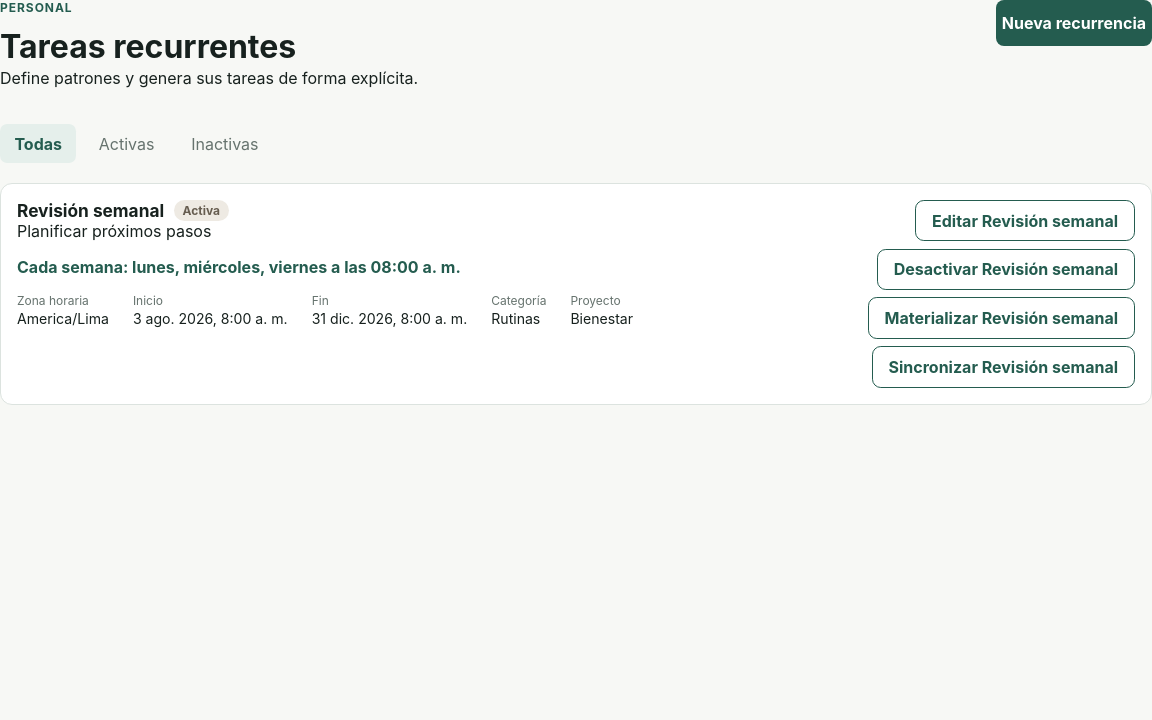
Test case: RecurringTasksPage › prefills editing, clears associations, and never synchronizes automatically
The width and height of the screenshot is (1152, 720).
Expected: the heading "Revisión semanal" is shown, [17,200,164,221]
Step 1. Click the button "Editar Revisión semanal" → (1025, 221), box [915,200,1135,241]
(page scrolled)
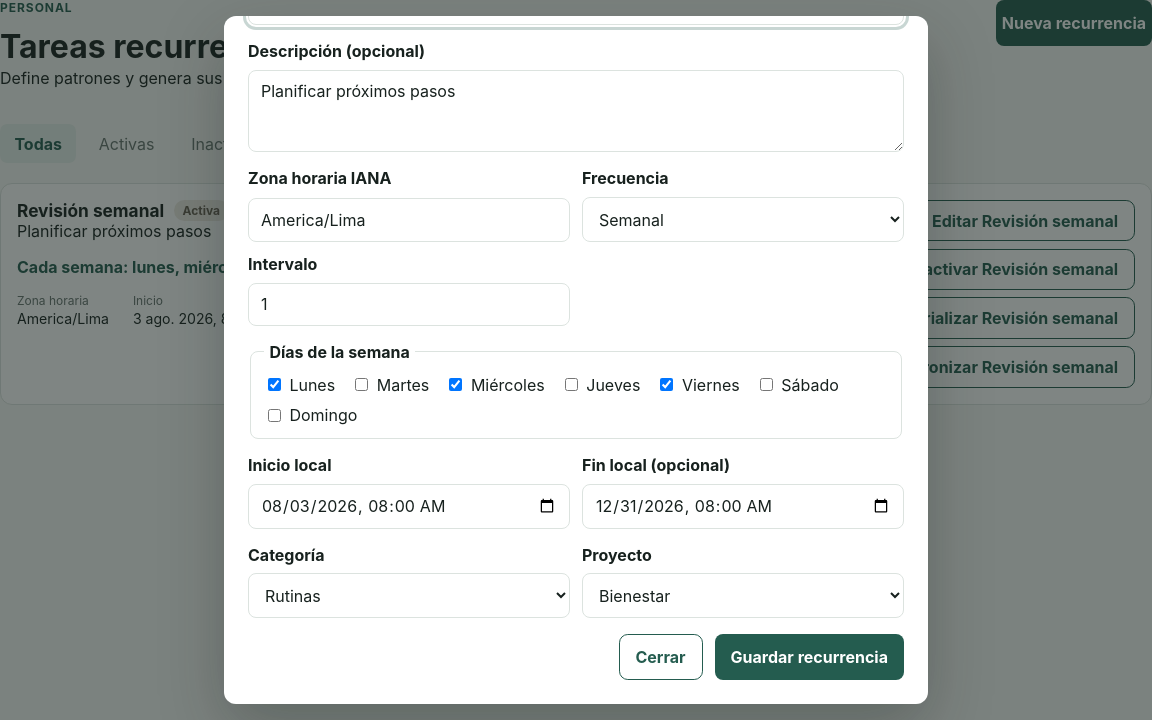
Now the dropdown labelled "Categoría" shows "Rutinas"
Step 2. Select "Sin categoría" in the dropdown labelled "Categoría" → (409, 596), box [248,573,570,618]
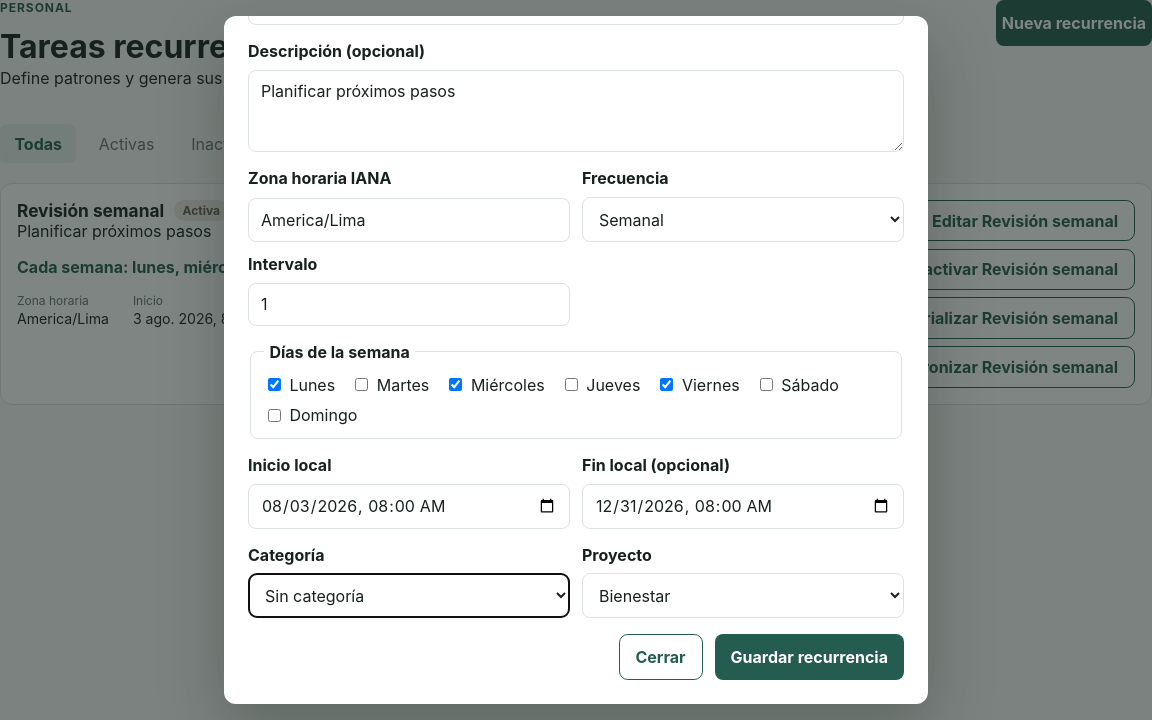
Step 3. Select "Sin proyecto" in the dropdown labelled "Proyecto" → (743, 596), box [582,573,904,618]
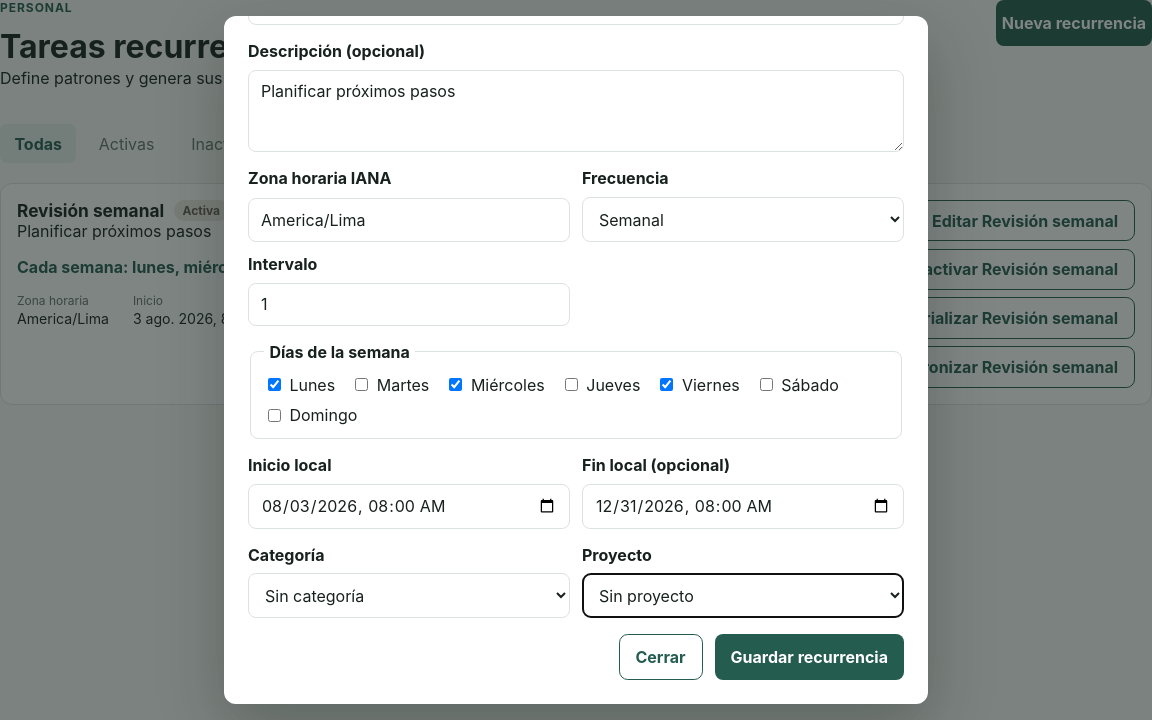
Step 4. Click the button "Guardar recurrencia" → (809, 657), box [715,634,904,680]
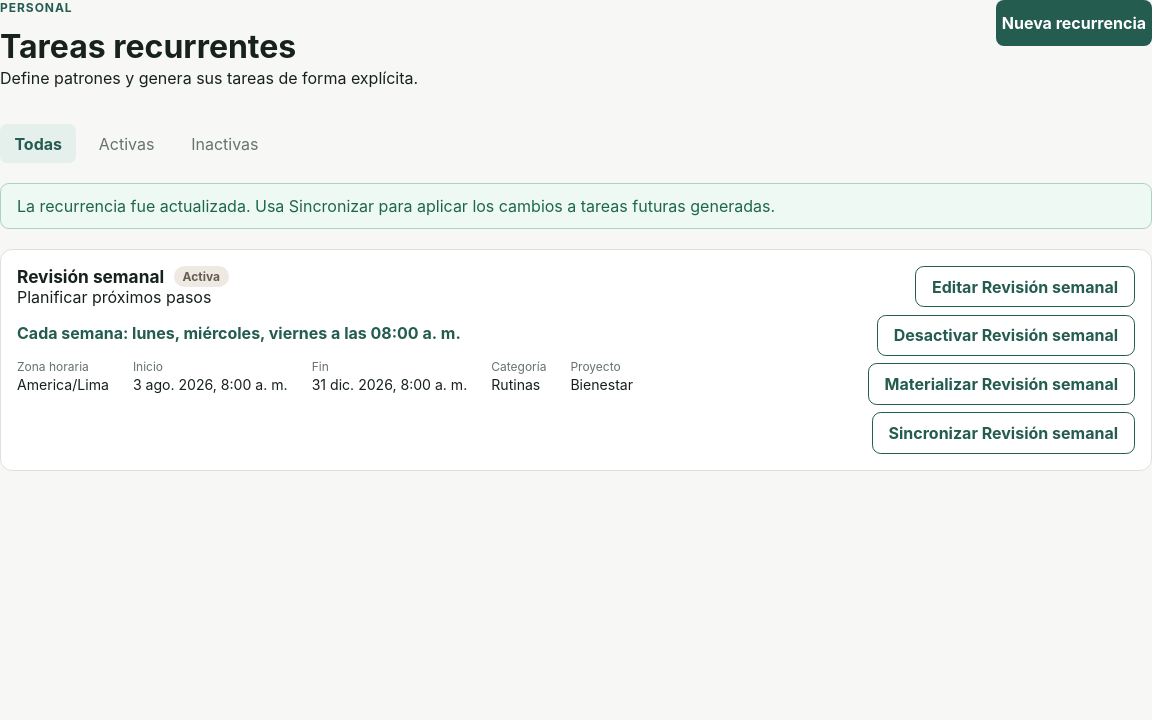
Now the text "Usa Sincronizar" is shown, box [17,196,775,216]
